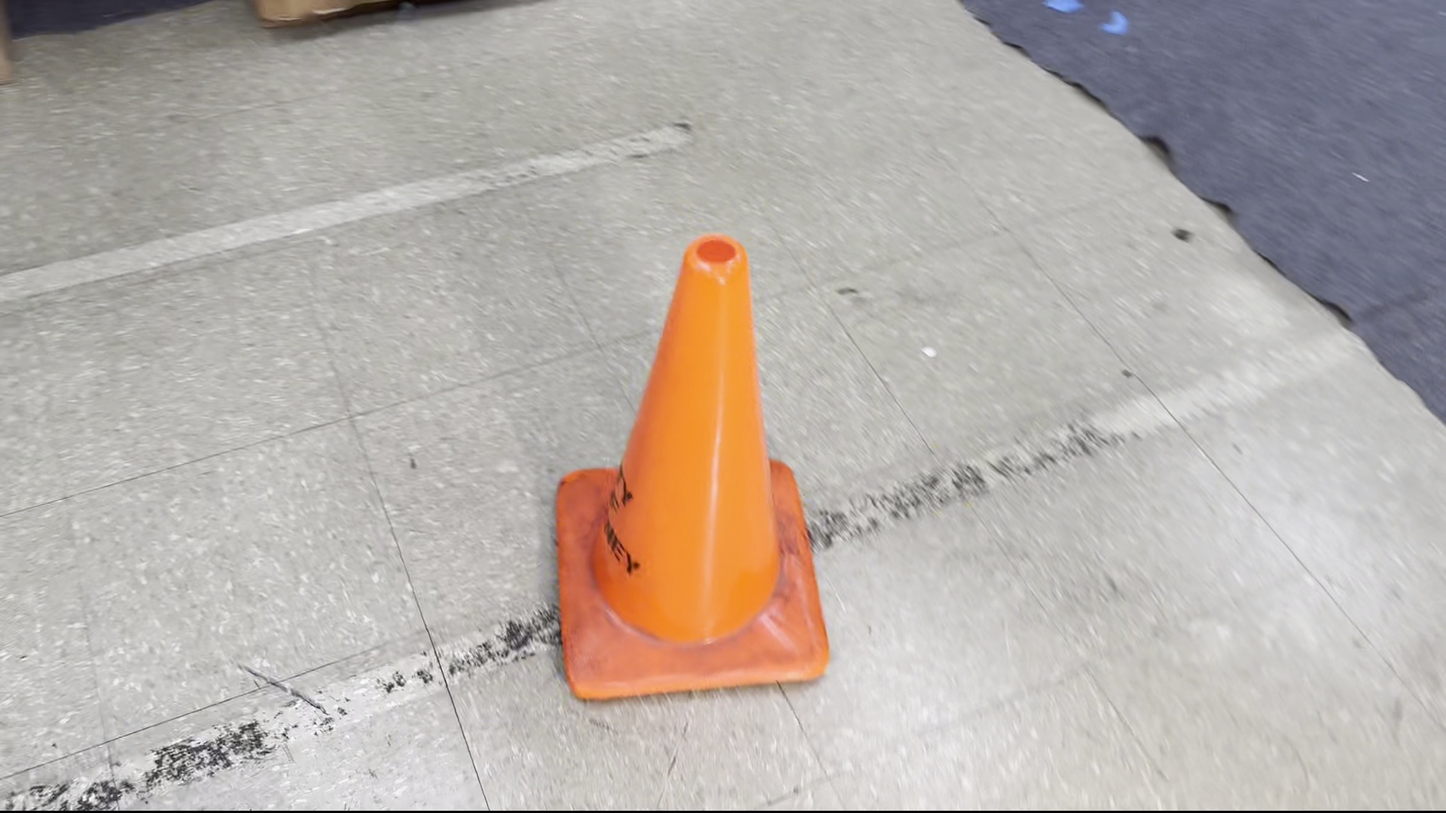traffic_cone: (554, 232, 830, 702)
